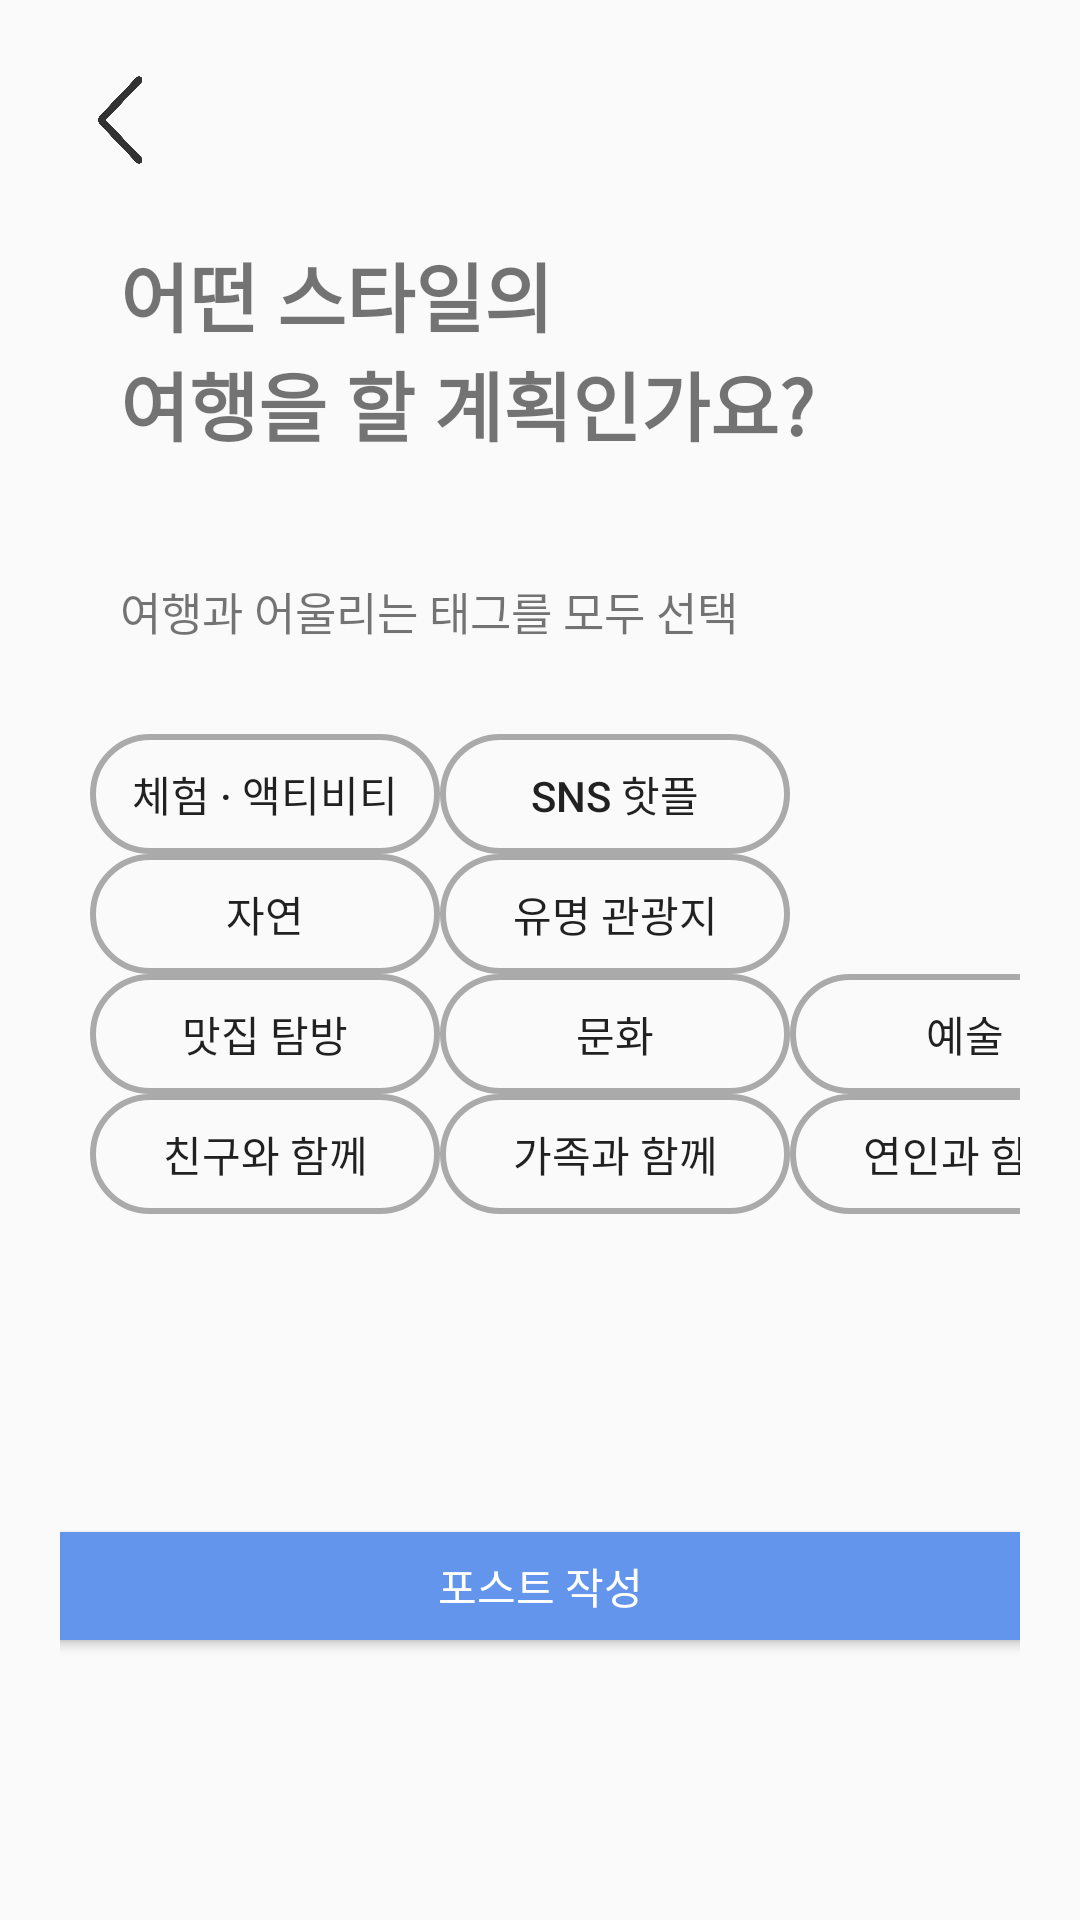

Named icons in this screenshot (1080x1920) and their centers, [x,y]:
navigation action: [120,120]
